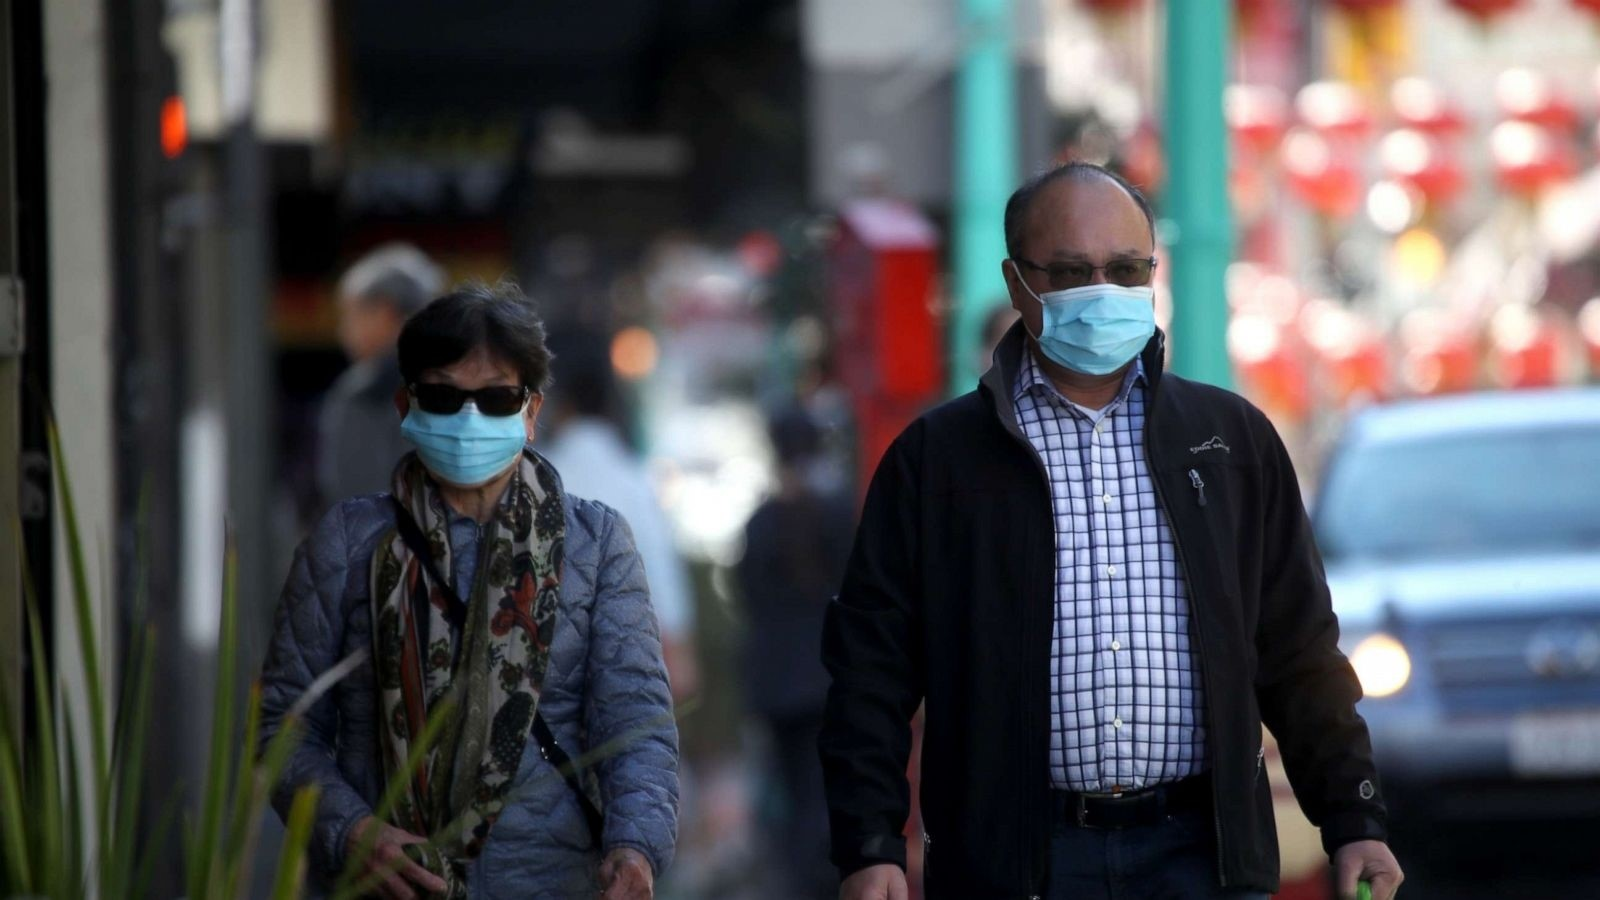face_with_mask: (999, 161, 1159, 384), (402, 298, 555, 496)
